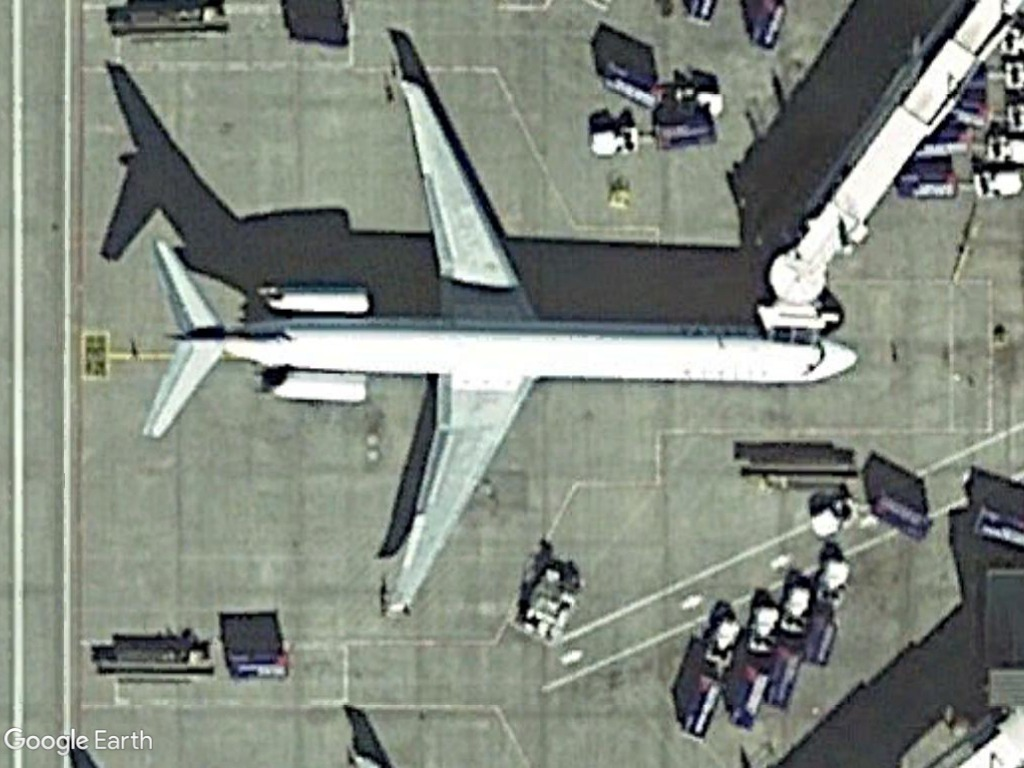chartered: (128, 62, 863, 621)
